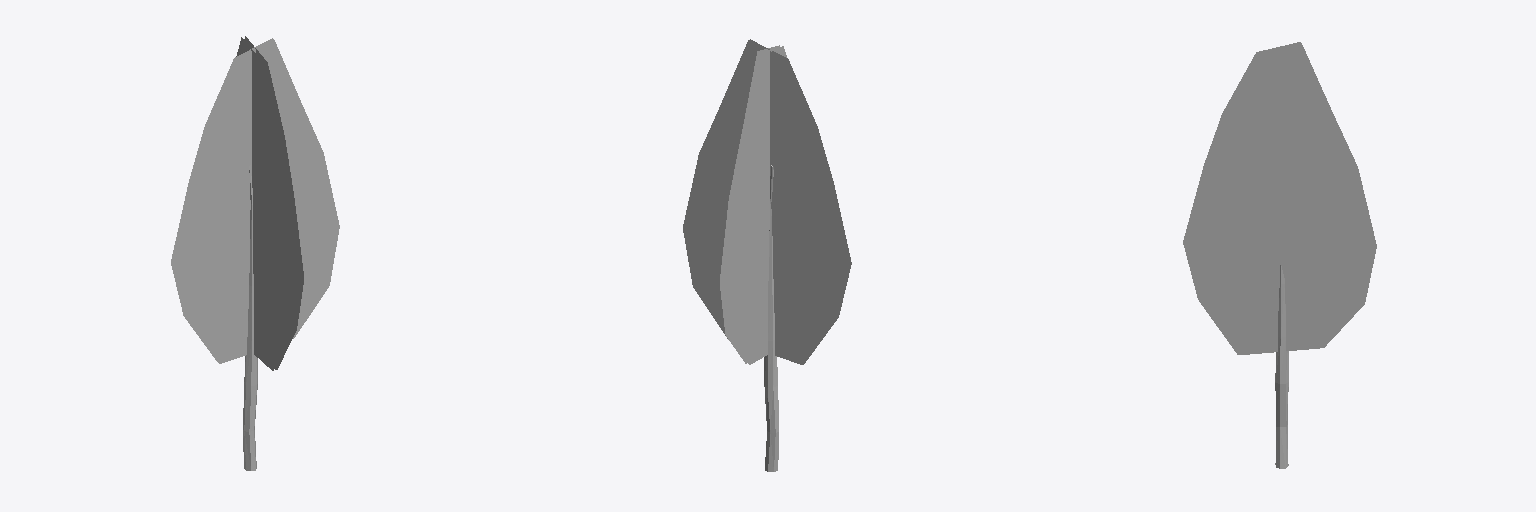
File: tree.obj
3 views of the same model, side by side, from view 1: azimuth 30°, elevation 25°; view 2: azimuth 150°, elevation 25°; view 3: azimuth 270°, elevation 25° (orthographic).
Visible parts, largest first — view 1: tree; view 2: tree; view 3: tree.
Boxes of the visible parts, box(x1,y1,x2,y2) form: tree: box(171, 36, 339, 470); tree: box(683, 39, 851, 471); tree: box(1183, 42, 1376, 468).
Size of the model in its own units: 2.21 by 5.35 by 2.21.